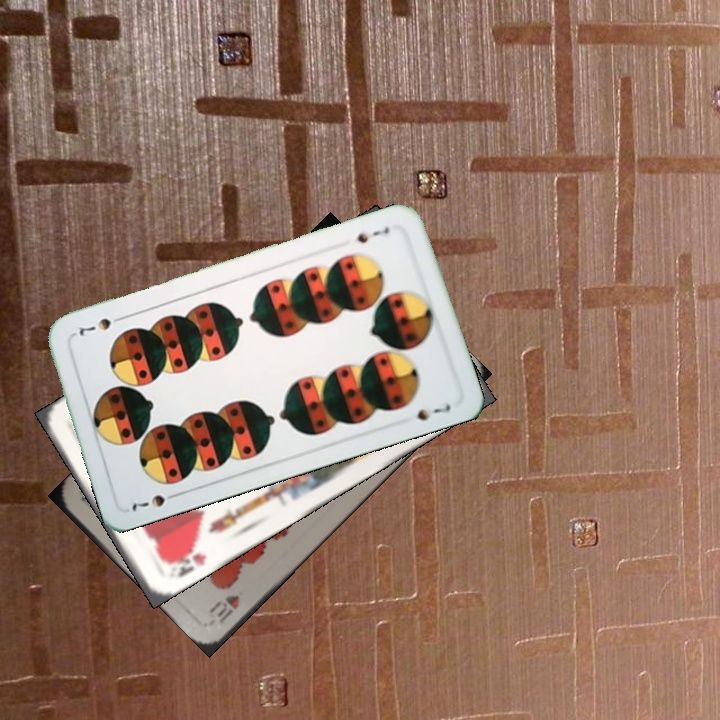H10: (205, 590, 242, 627)
HK: (163, 540, 210, 580)
S7: (125, 488, 183, 513), (348, 222, 392, 246)
